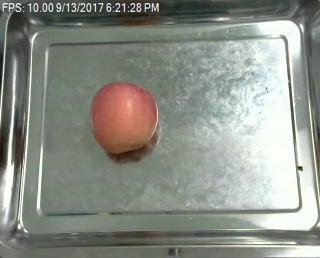apple: (89, 81, 159, 155)
